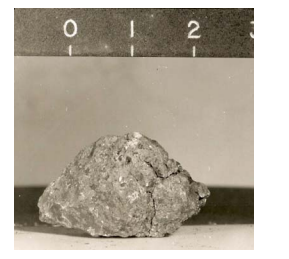Breccia: (32, 124, 205, 226)
